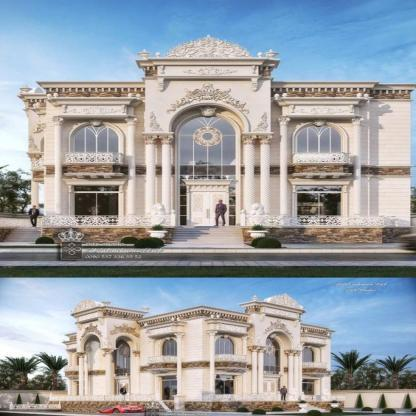Balcony: (246, 216, 384, 226), (42, 216, 170, 226), (292, 152, 350, 163), (65, 152, 122, 163)
Building Outline: (0, 33, 416, 244)
Cornice: (134, 57, 282, 69), (271, 81, 416, 90), (274, 97, 369, 108), (35, 81, 145, 90), (46, 97, 143, 107), (287, 179, 354, 185), (61, 179, 128, 185), (181, 179, 235, 185), (18, 93, 47, 98)
Deco: (165, 83, 249, 114), (163, 34, 254, 57), (297, 105, 350, 115), (67, 105, 119, 115), (182, 66, 238, 75), (248, 203, 264, 225), (150, 203, 166, 225), (149, 111, 165, 132), (252, 112, 268, 132), (198, 106, 218, 117), (28, 135, 39, 152), (313, 119, 327, 127), (89, 119, 103, 127)
Door: (191, 191, 225, 226)
Facade: (15, 34, 415, 244)
Floor Slab: (45, 165, 411, 175)
Glass Wall: (180, 117, 236, 226)
Molding: (46, 88, 144, 93), (271, 88, 370, 92), (370, 90, 410, 95), (27, 99, 46, 102), (258, 66, 272, 70), (143, 66, 156, 70)
Pillar: (240, 132, 274, 225), (142, 132, 175, 225), (350, 118, 364, 225), (50, 118, 64, 225), (277, 118, 291, 225), (125, 118, 139, 225), (31, 181, 38, 217)
Window: (297, 126, 342, 163), (74, 126, 118, 162), (297, 192, 342, 225), (74, 192, 119, 225), (297, 186, 342, 192), (74, 186, 119, 192)
